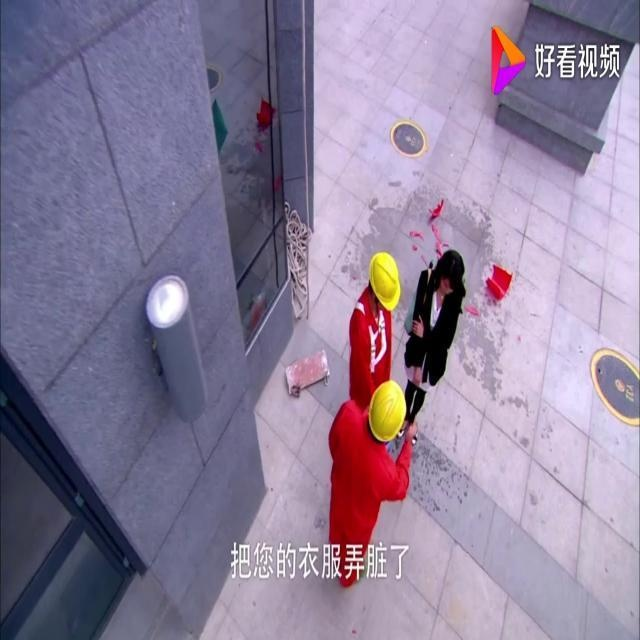Arnes_seguridad: (352, 289, 390, 372)
